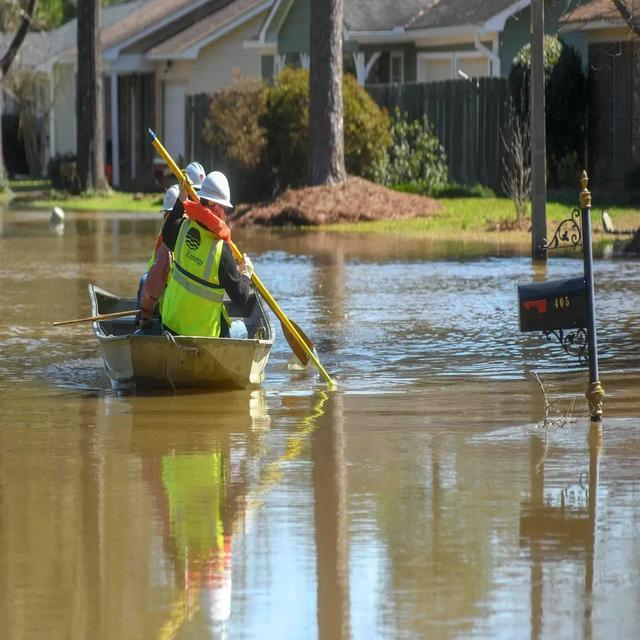Person-RiskLevel3: (134, 127, 264, 361)
